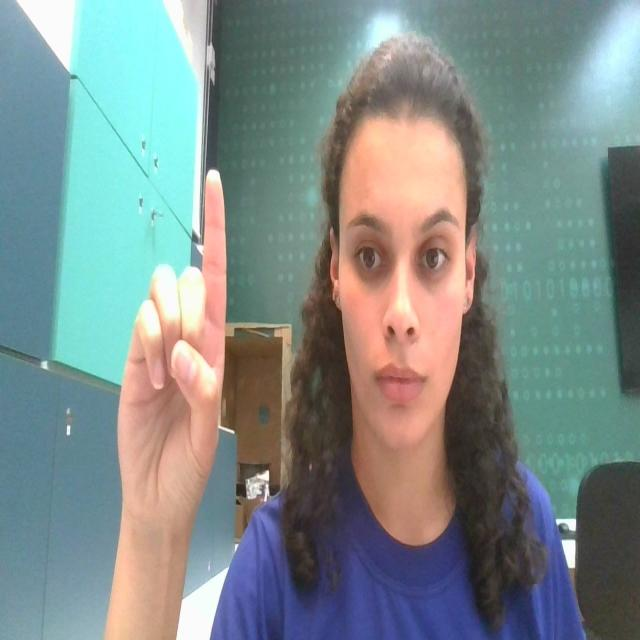D2: (101, 162, 236, 538)
